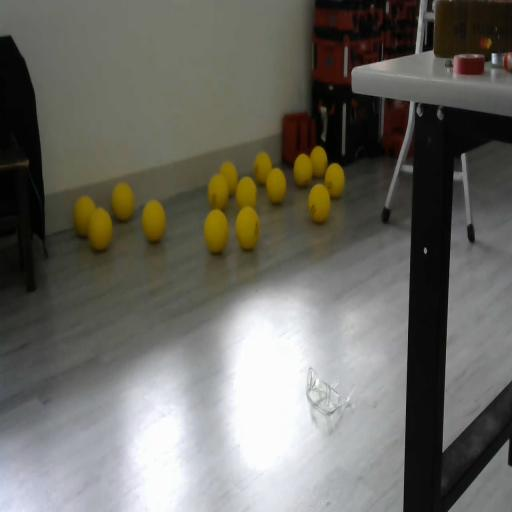FUEL: (202, 207, 230, 255), (234, 204, 261, 251), (87, 206, 113, 252), (142, 199, 166, 243), (307, 182, 331, 224), (111, 182, 134, 221), (235, 175, 258, 210), (324, 162, 345, 199), (266, 167, 286, 204), (293, 152, 313, 188), (219, 160, 238, 197), (254, 151, 272, 185), (310, 145, 328, 177)
